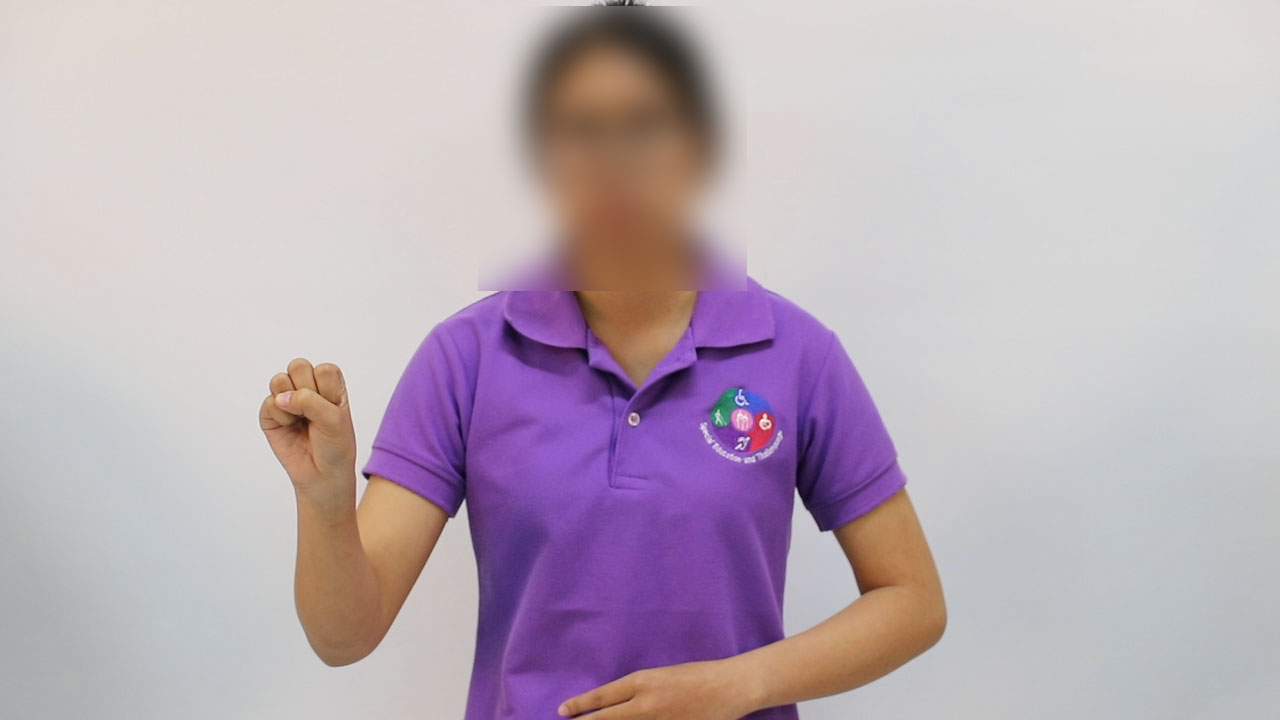sor: (238, 338, 369, 501)
